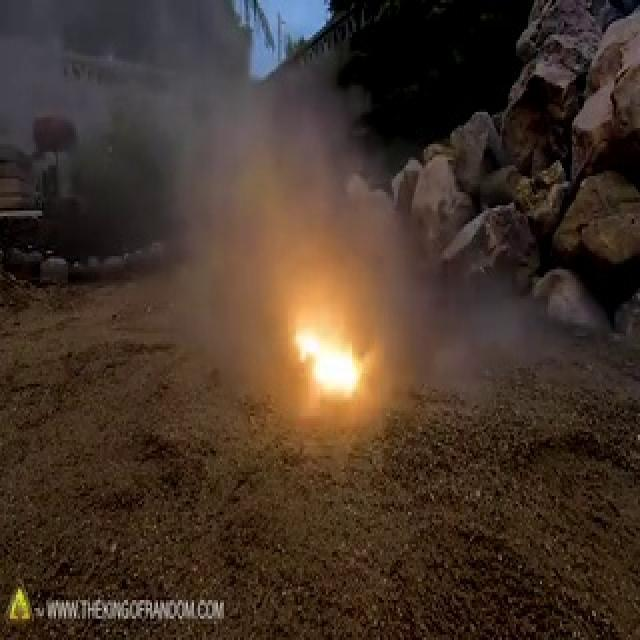Fire: (286, 312, 372, 403)
